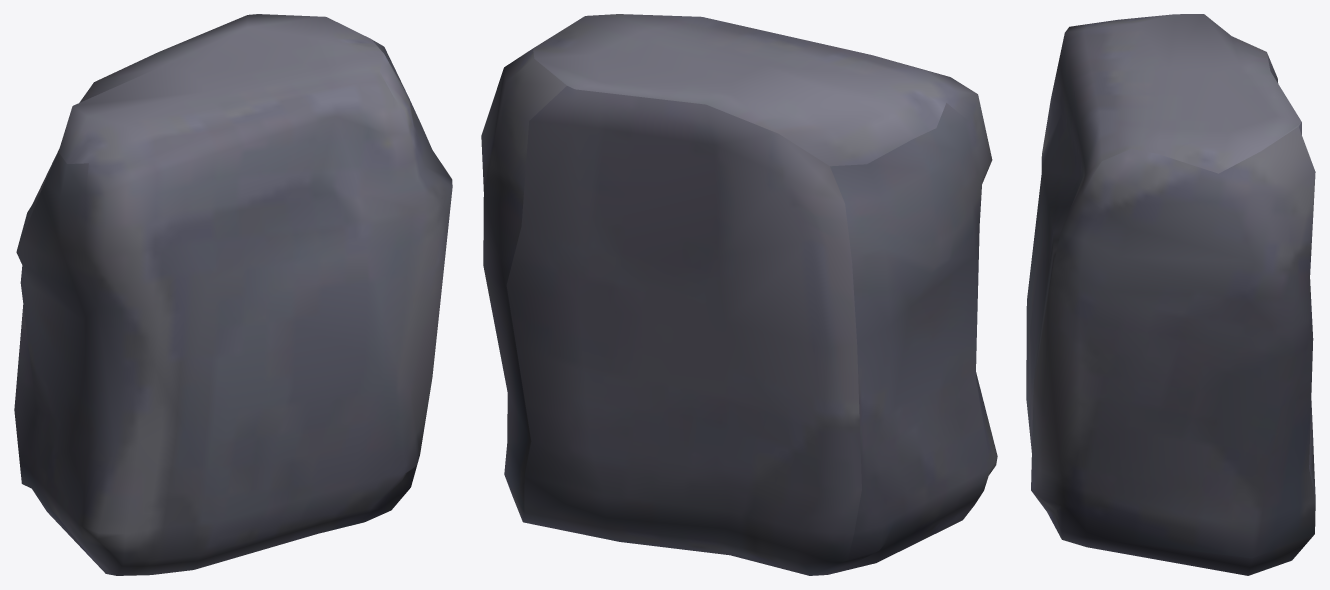
File: DeepForestRock04Textured.fbx
The picture shows the model from 3 angles, left to right: view 1: azimuth 30°, elevation 25°; view 2: azimuth 150°, elevation 25°; view 3: azimuth 270°, elevation 25°; orthographic projection. The views are drawn at different scales.
Parts seen in each view (by area): view 1: ForestRock04; view 2: ForestRock04; view 3: ForestRock04.
Boxes of the visible parts, bbox=[...] form: ForestRock04: bbox=[14, 14, 452, 575]; ForestRock04: bbox=[481, 14, 997, 575]; ForestRock04: bbox=[1026, 14, 1315, 575].
Size of the model in its own units: 1.88 by 1.93 by 1.21.
